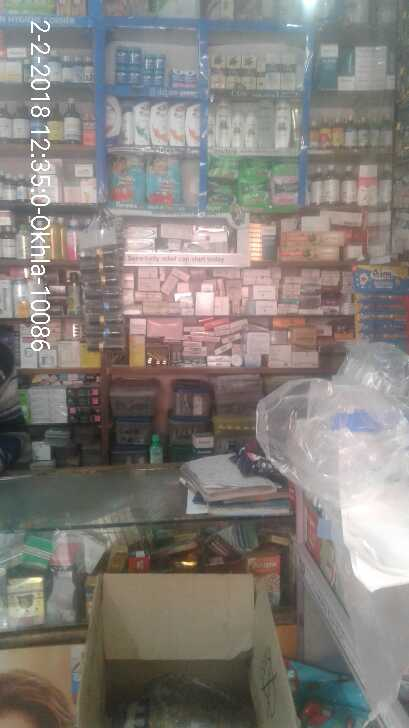vicks: (113, 41, 202, 95)
